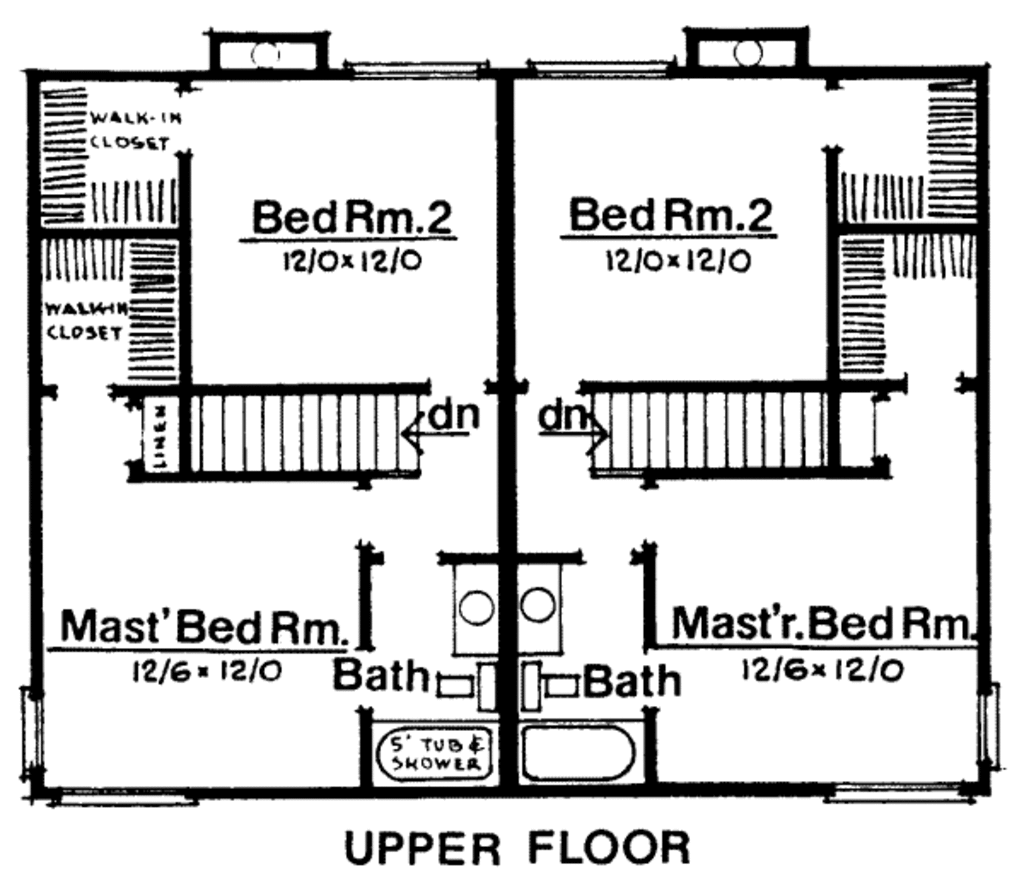large_sink: (416, 659, 505, 709), (522, 658, 578, 718)
stairs: (576, 370, 909, 491), (115, 382, 458, 493)
tub: (349, 713, 500, 790), (511, 717, 655, 791)
window: (828, 768, 972, 808), (59, 780, 195, 809), (346, 51, 482, 80), (9, 685, 53, 774), (527, 52, 677, 78), (977, 680, 1001, 766)
